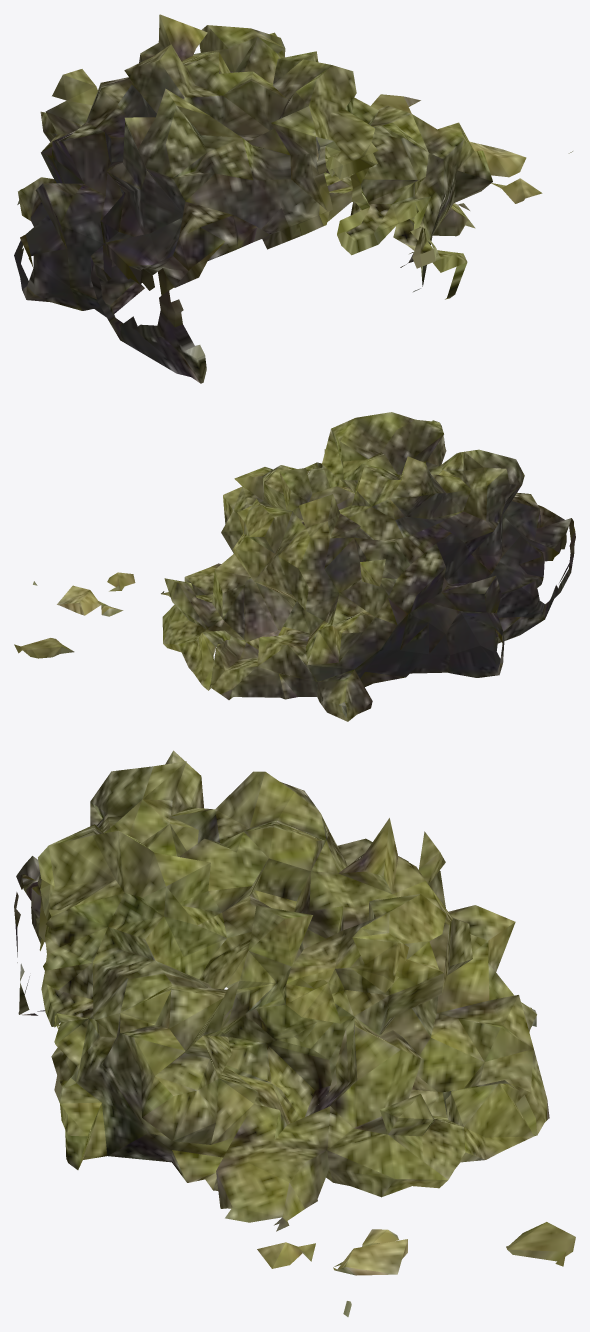
3 renders of one model, top to bottom at view 1: azimuth 30°, elevation 25°; view 2: azimuth 150°, elevation 25°; view 3: azimuth 270°, elevation 25°, orthographic. The views are drawn at different scales.
Visible parts, largest first — view 1: Mesh_0; view 2: Mesh_0; view 3: Mesh_0.
Part boxes in pixels (<box>): Mesh_0: <box>14,14,572,383</box>; Mesh_0: <box>14,412,575,721</box>; Mesh_0: <box>14,750,575,1316</box>.
Size of the model in its own units: 29.26 by 12.41 by 21.33.
Materials: 1 (1 with a texture image).
